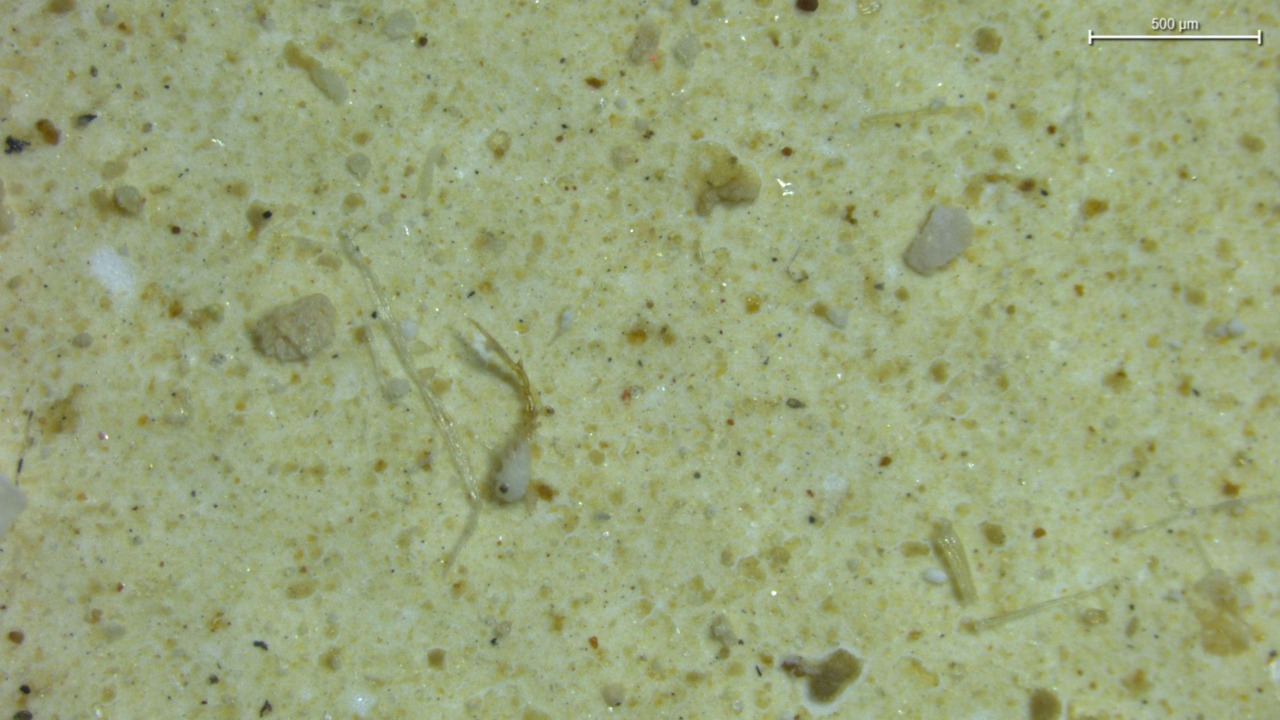microplastic_fragment: (251, 294, 336, 361), (904, 206, 973, 274), (931, 522, 976, 604), (495, 438, 530, 503), (383, 11, 416, 40), (114, 186, 144, 214), (383, 377, 410, 401)
